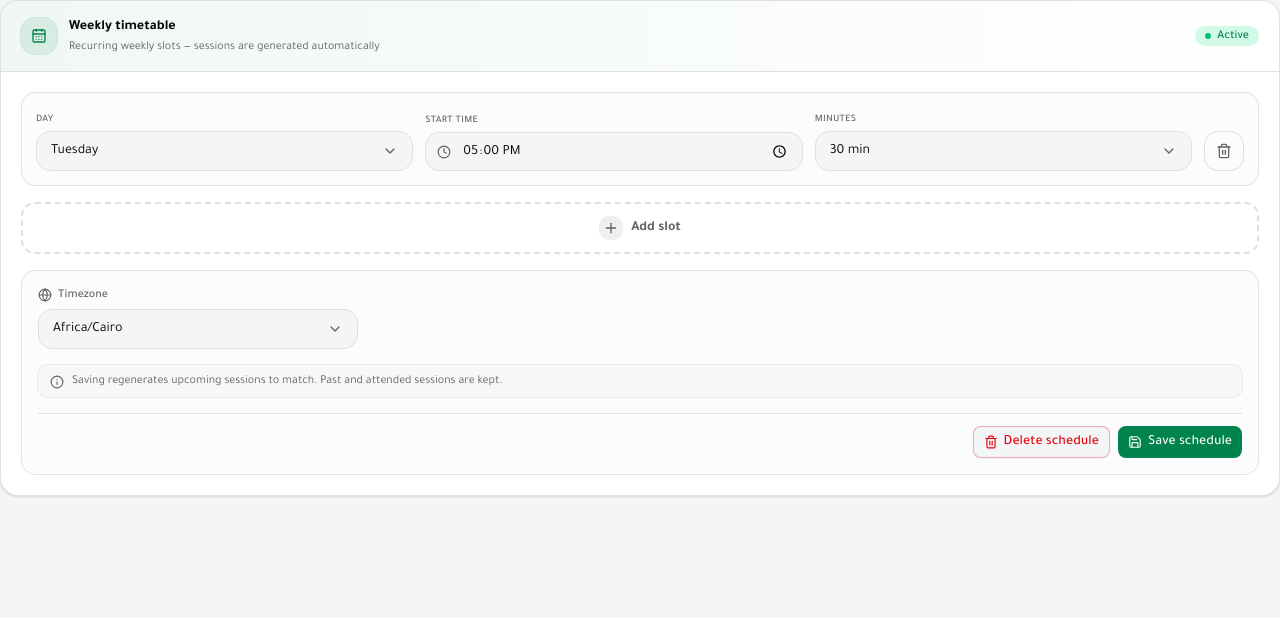
Test: ScheduleSection (Sprint 5 §5.1) › adds a slot and saves the whole set, surfacing generation counts
Click the button with test id "add-slot".
click(640, 228)  # box [21, 202, 1259, 254]
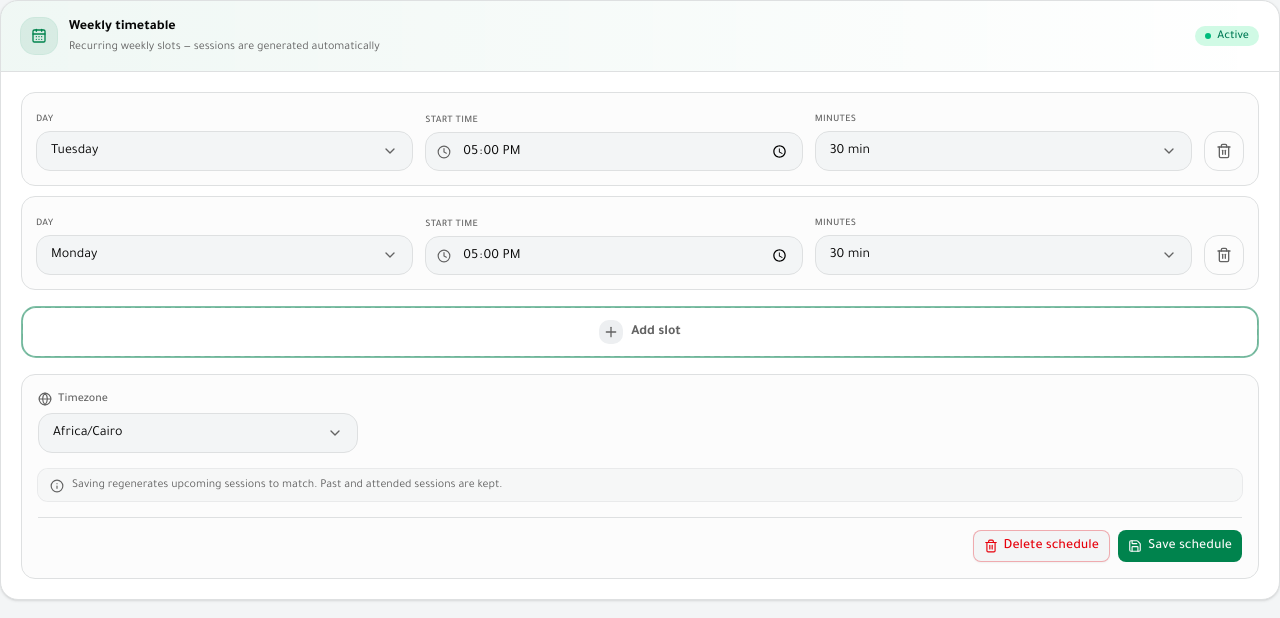
Click the button with test id "save-schedule".
click(1180, 546)  # box [1118, 530, 1242, 562]
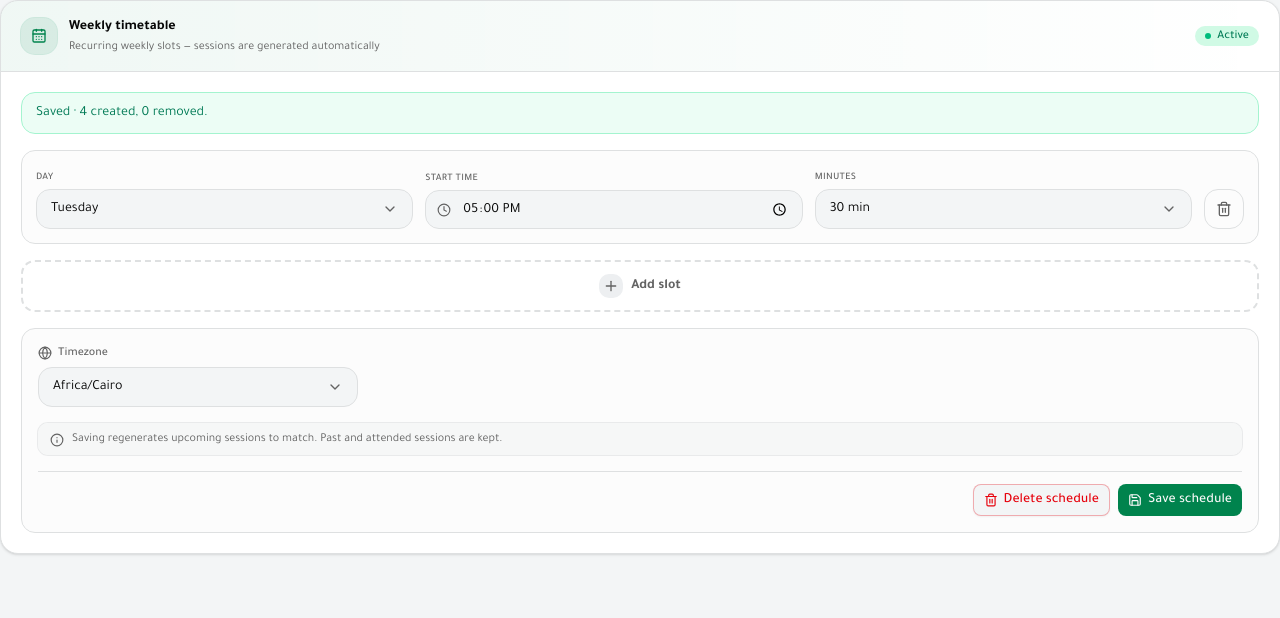
Now the message with test id "schedule-notice" shows "4 created", box [36, 106, 208, 120]
